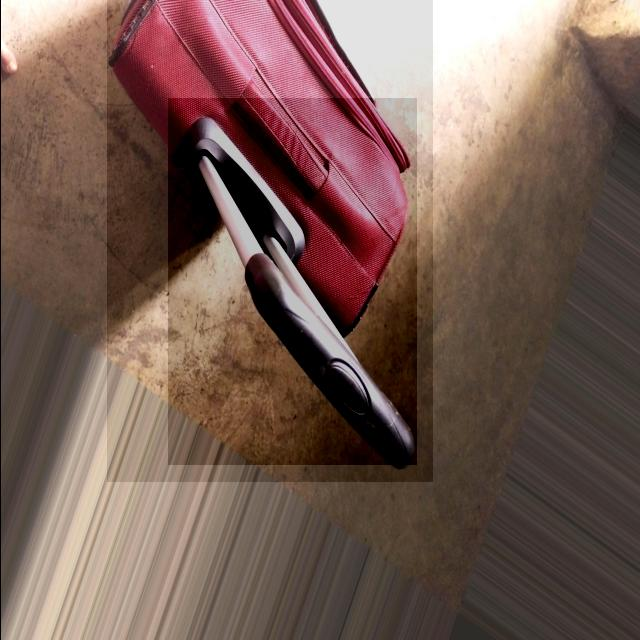Bag: (102, 0, 432, 478)
Handle: (178, 110, 421, 461)
